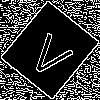V: (25, 25, 81, 82)
